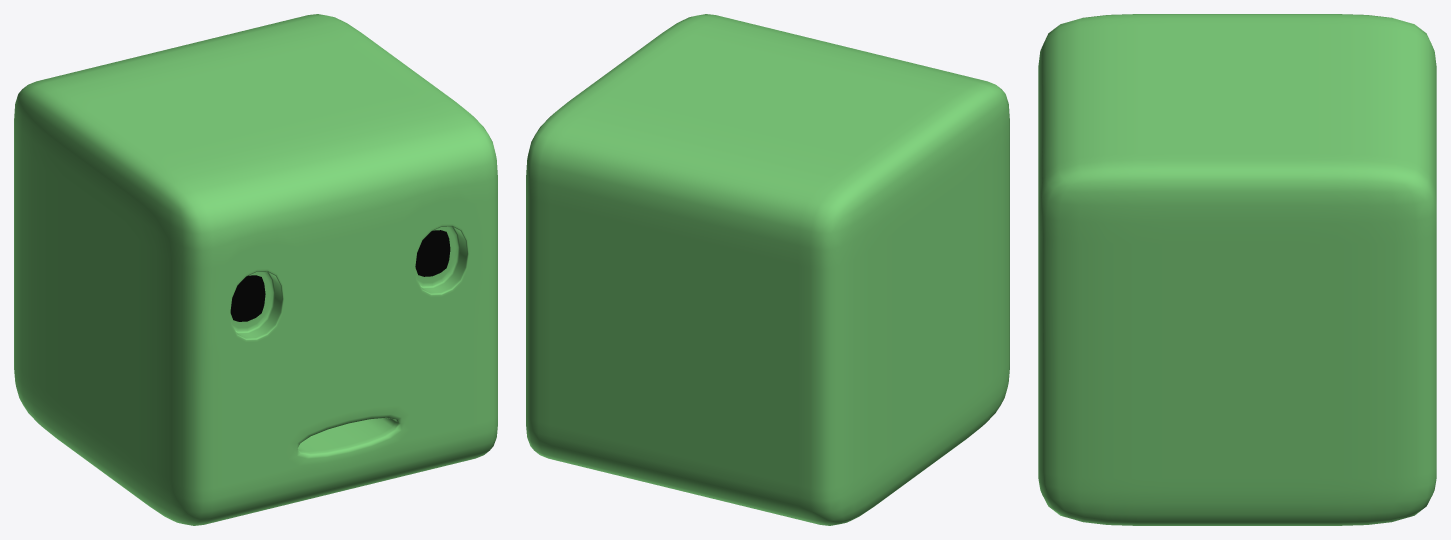
The model's file is QuickHead.fbx.
The picture shows the model from 3 angles, left to right: view 1: azimuth 30°, elevation 25°; view 2: azimuth 150°, elevation 25°; view 3: azimuth 270°, elevation 25°; orthographic projection. The views are drawn at different scales.
Visible parts, largest first — view 1: Cube; view 2: Cube; view 3: Cube.
Boxes of the visible parts, x1,y1,x2,y2 form: Cube: (14,14,497,525); Cube: (526,14,1009,525); Cube: (1038,14,1436,525).
Bounding box in the file's own units: 1 × 1 × 1.
